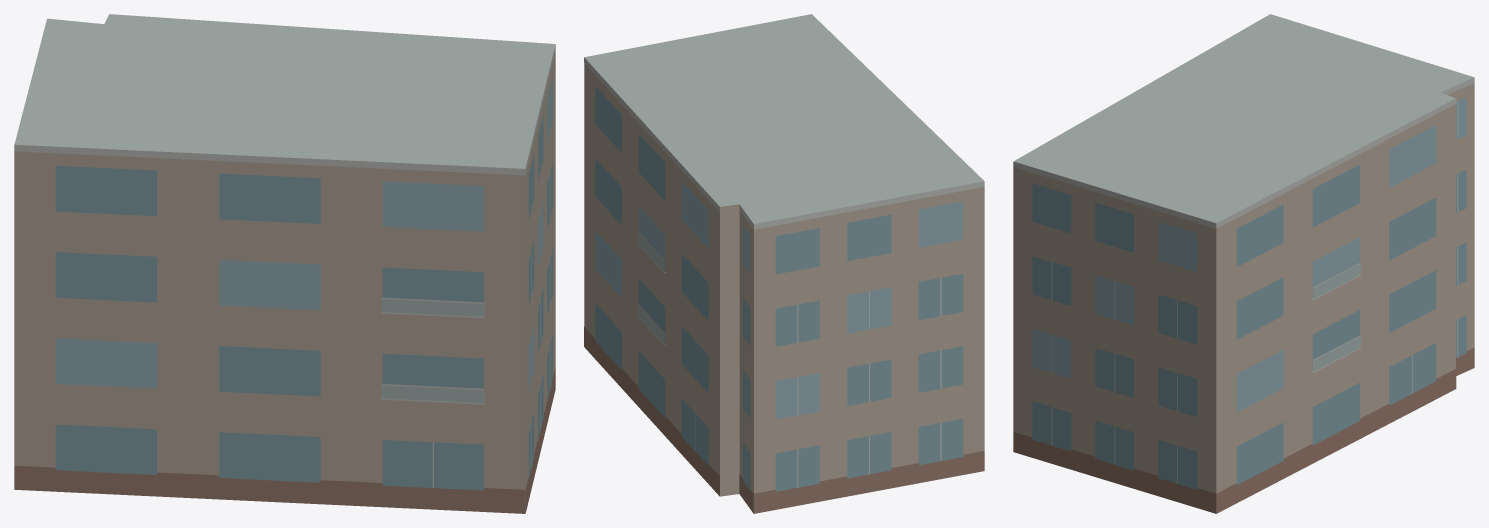
The model's file is survey-upis-32666262.glb.
The picture shows the model from 3 angles, left to right: view 1: azimuth 30°, elevation 25°; view 2: azimuth 150°, elevation 25°; view 3: azimuth 270°, elevation 25°; orthographic projection. The views are drawn at different scales.
Parts seen in each view (by area): view 1: survey-upis-32666262.tmp; view 2: survey-upis-32666262.tmp; view 3: survey-upis-32666262.tmp.
Boxes of the visible parts, box(x1,y1,x2,y2) form: survey-upis-32666262.tmp: box(14, 14, 555, 513); survey-upis-32666262.tmp: box(584, 14, 984, 513); survey-upis-32666262.tmp: box(1013, 14, 1474, 513).
Bounding box in the file's own units: 19.78 × 12.8 × 18.42.
